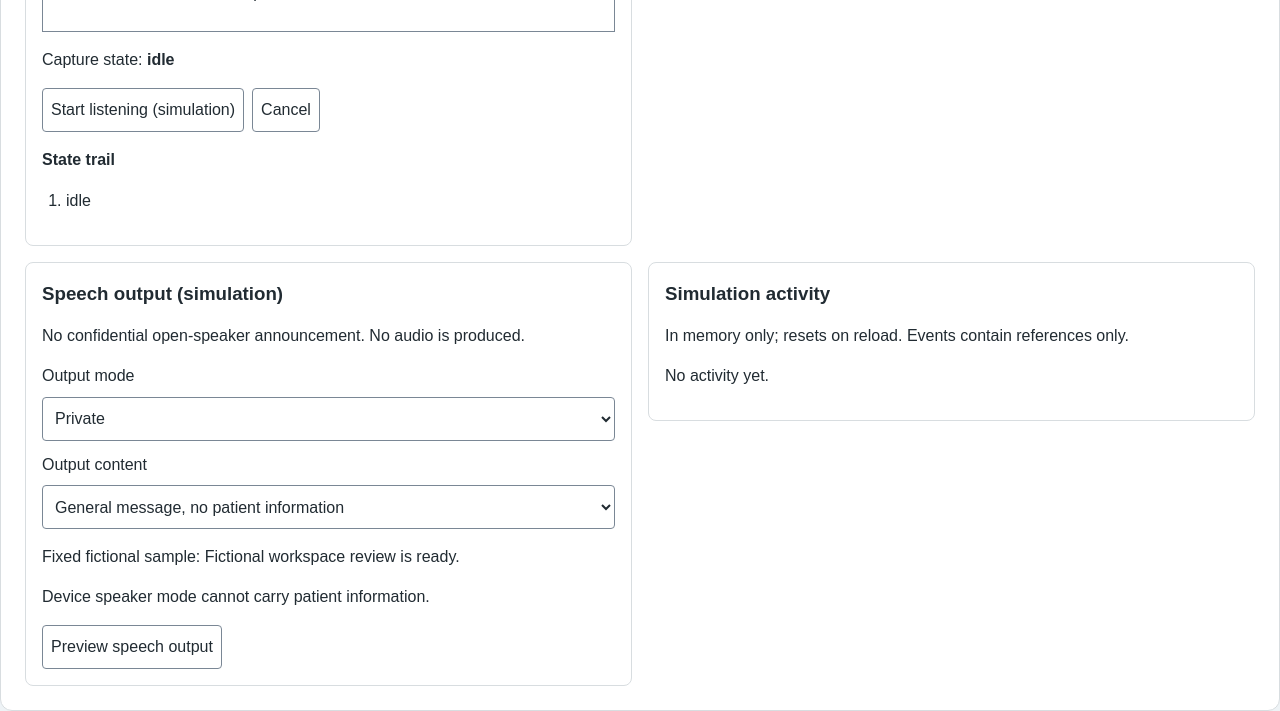
it: refuses device output via the provider, moves focus to mode, and reports disabled output
(page scrolled)
Select "Device speaker" in the dropdown labelled "Output mode": (328, 419) [42,397,615,441]
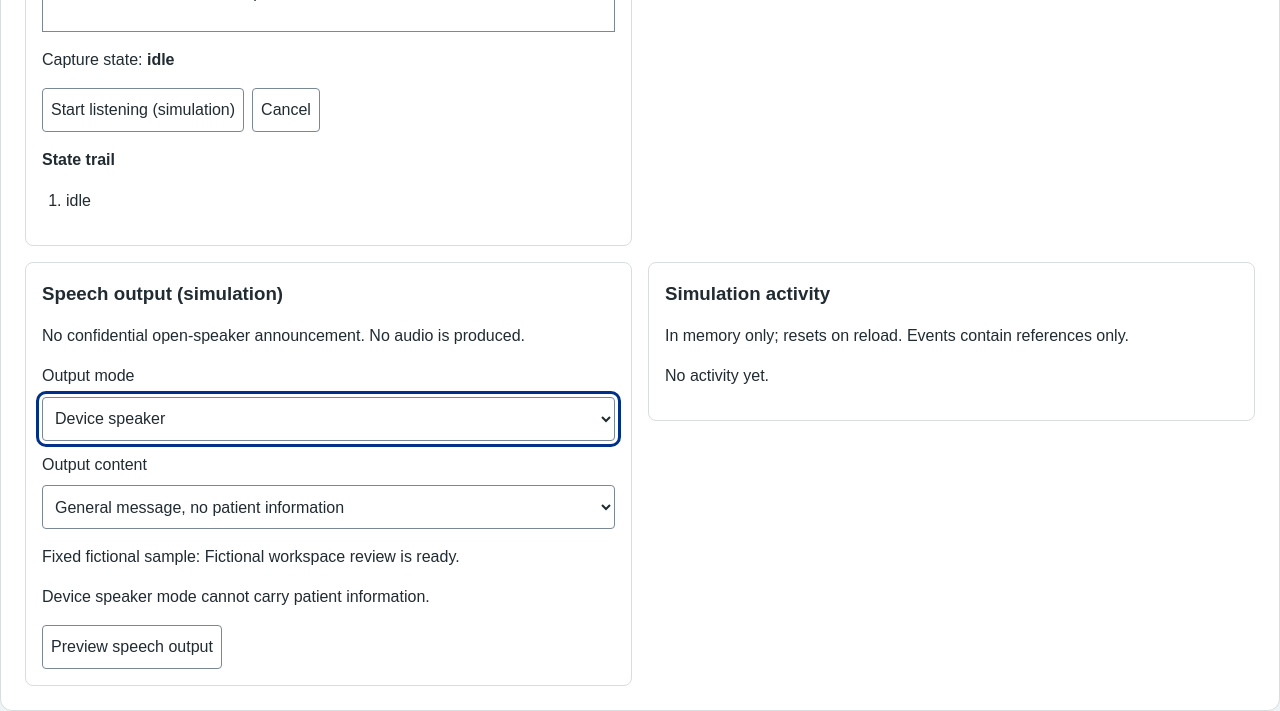
Select "Message with patient information" in the dropdown labelled "Output content": (328, 507) [42,485,615,529]
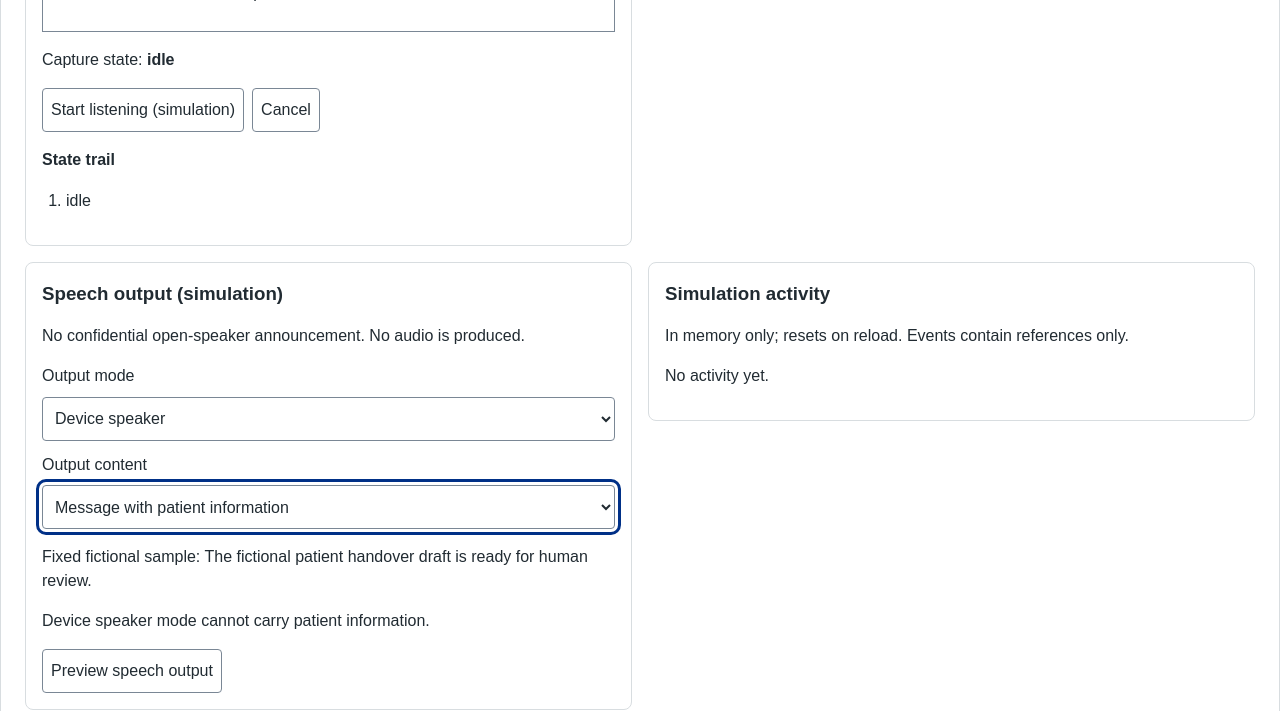
Click the button "Preview speech output": (132, 671) [42,649,222,693]
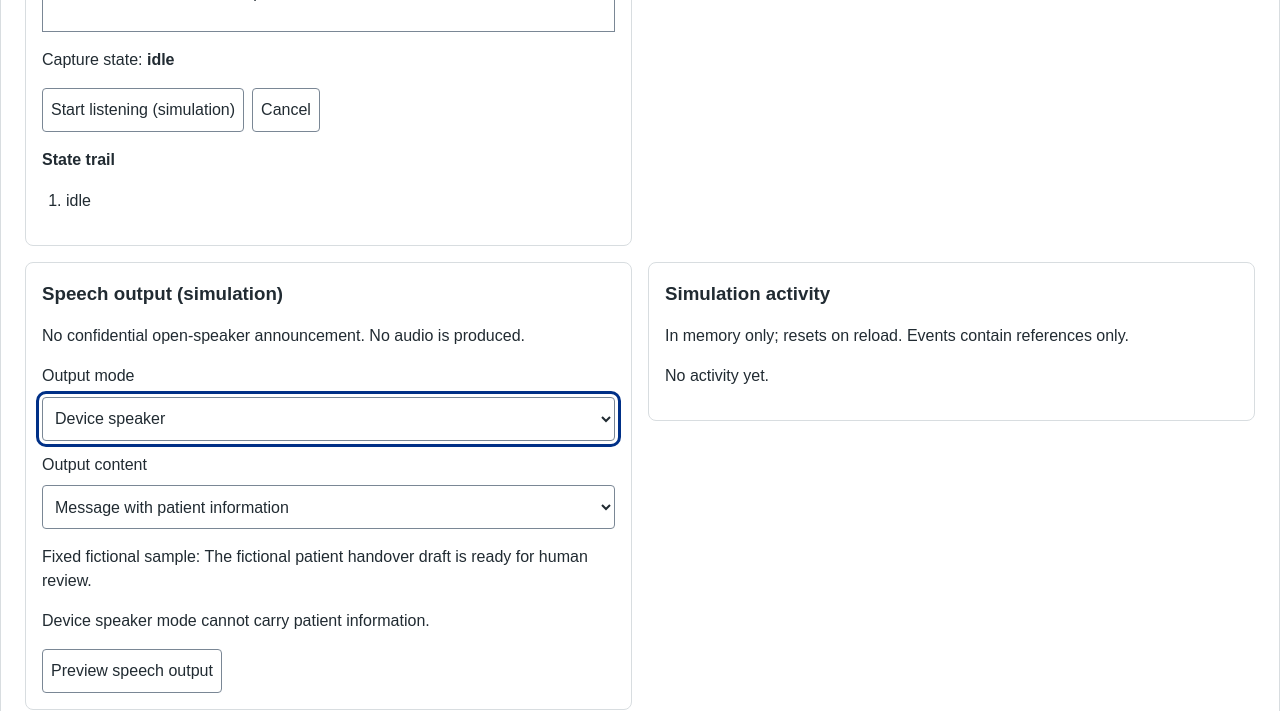
Select "Disabled" in the dropdown labelled "Output mode": (328, 419) [42,397,615,441]
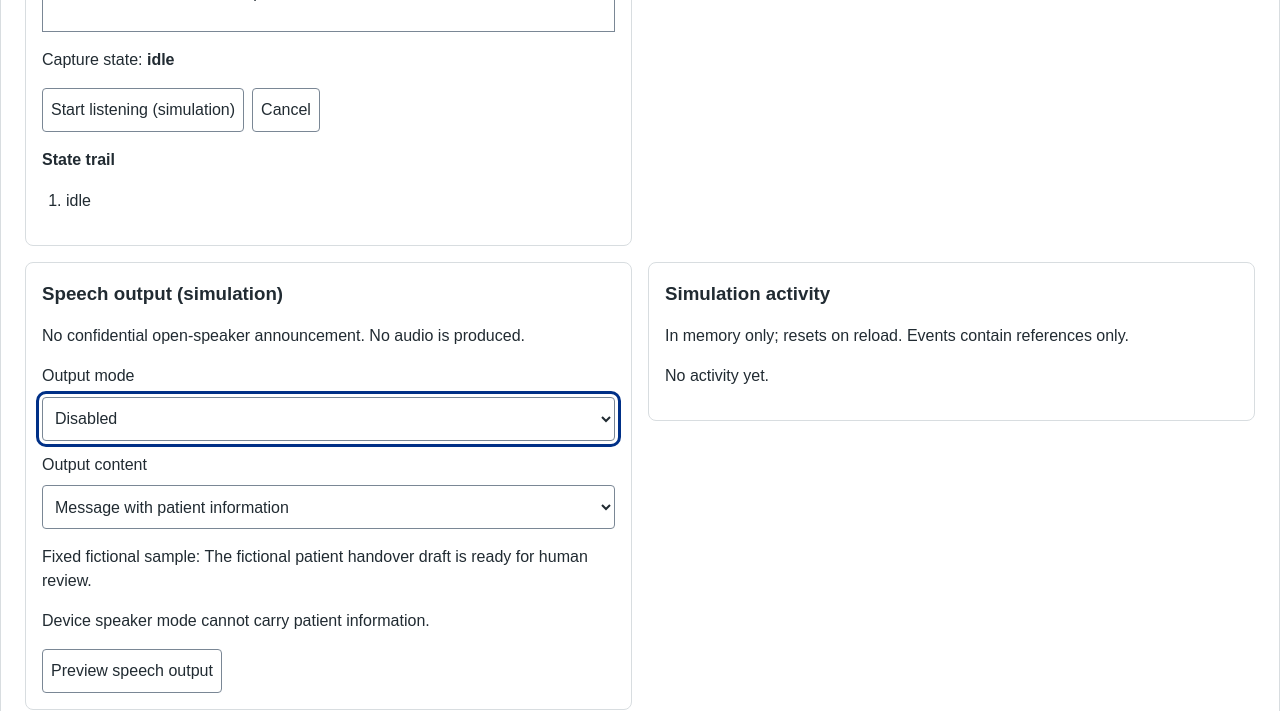
Click the button "Preview speech output": (132, 671) [42,649,222,693]
(page scrolled)
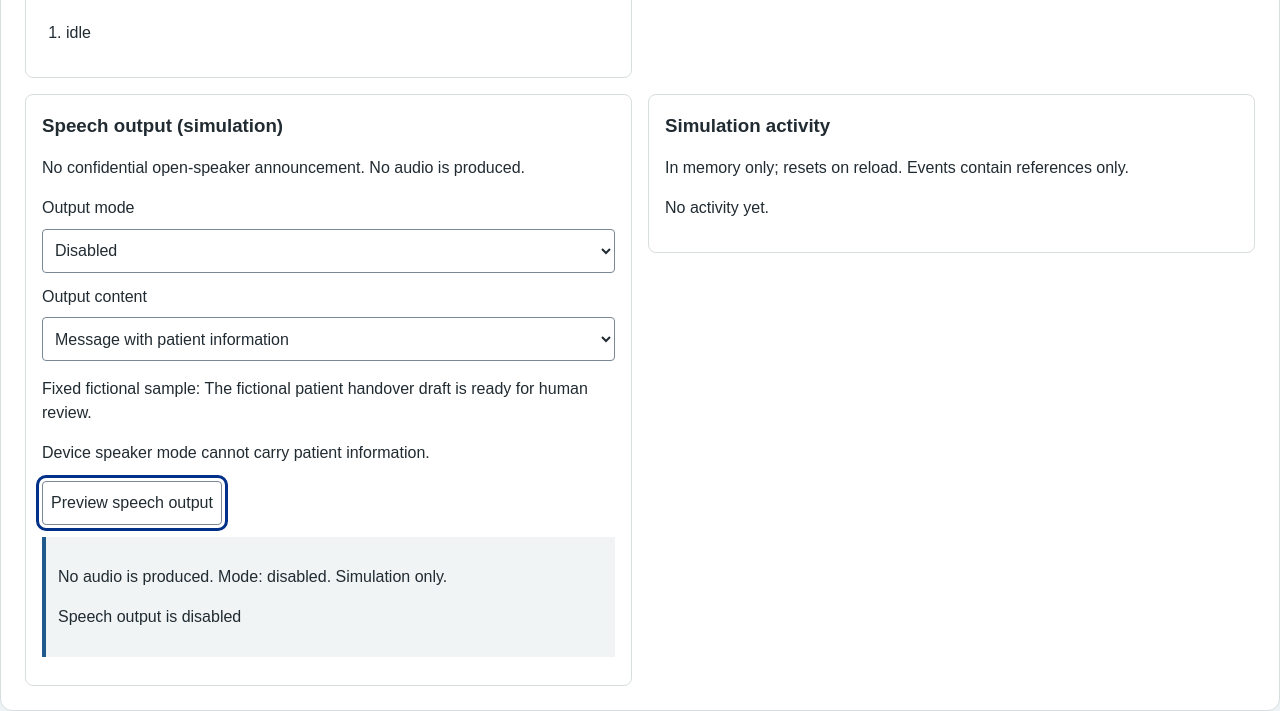
Now the text "No audio is produced. Mode: disabled. Simulation only." is shown, box [58,568,447,585]
